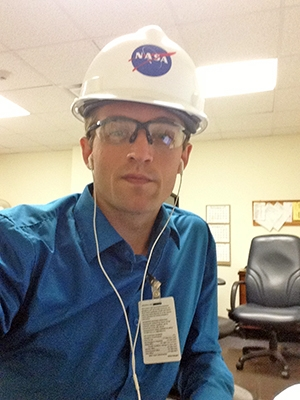Helmet: (68, 22, 212, 138)
